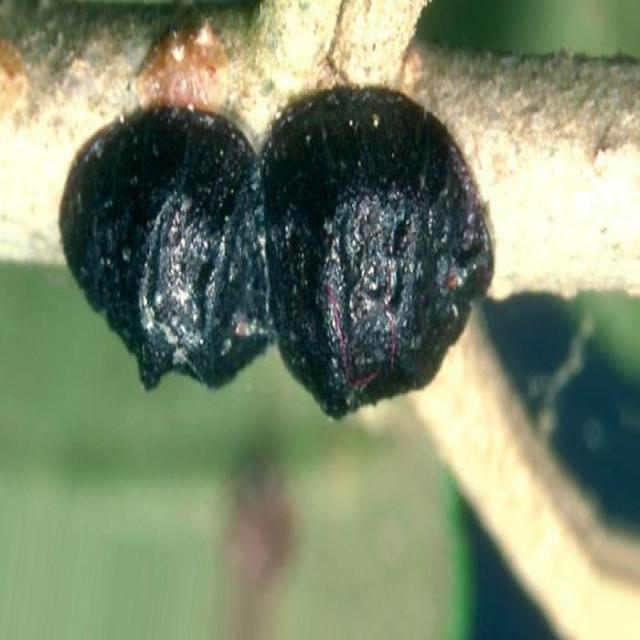BlackScale: (60, 86, 492, 416)
